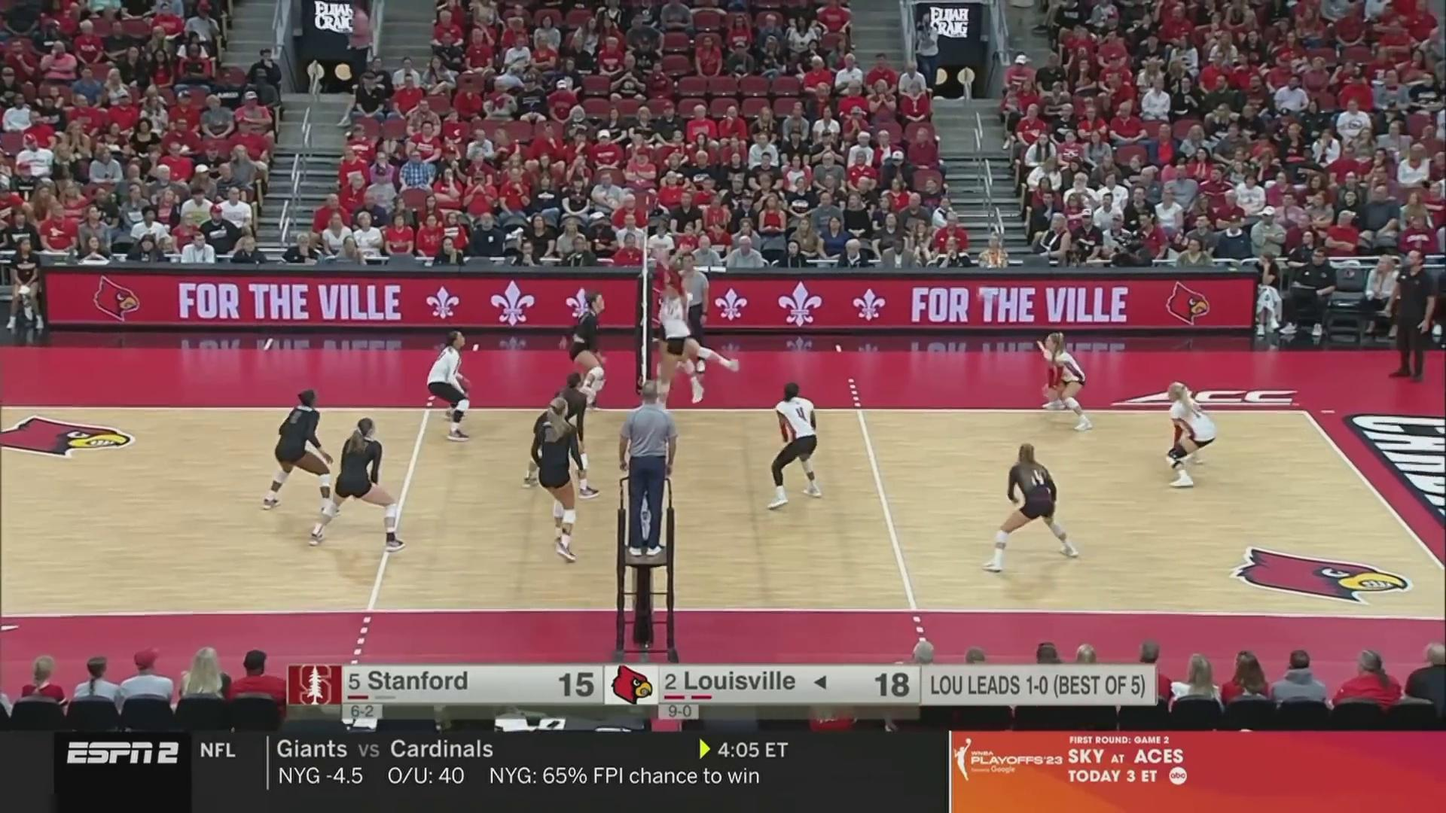player: (651, 263, 739, 415), (306, 418, 404, 549), (982, 442, 1079, 573), (523, 374, 596, 498), (260, 392, 332, 514), (532, 399, 583, 559), (766, 380, 822, 509), (1160, 383, 1220, 488), (657, 282, 706, 404), (559, 293, 607, 412), (427, 330, 476, 442), (1039, 330, 1091, 431)
refree: (618, 385, 680, 551), (670, 254, 711, 371)
